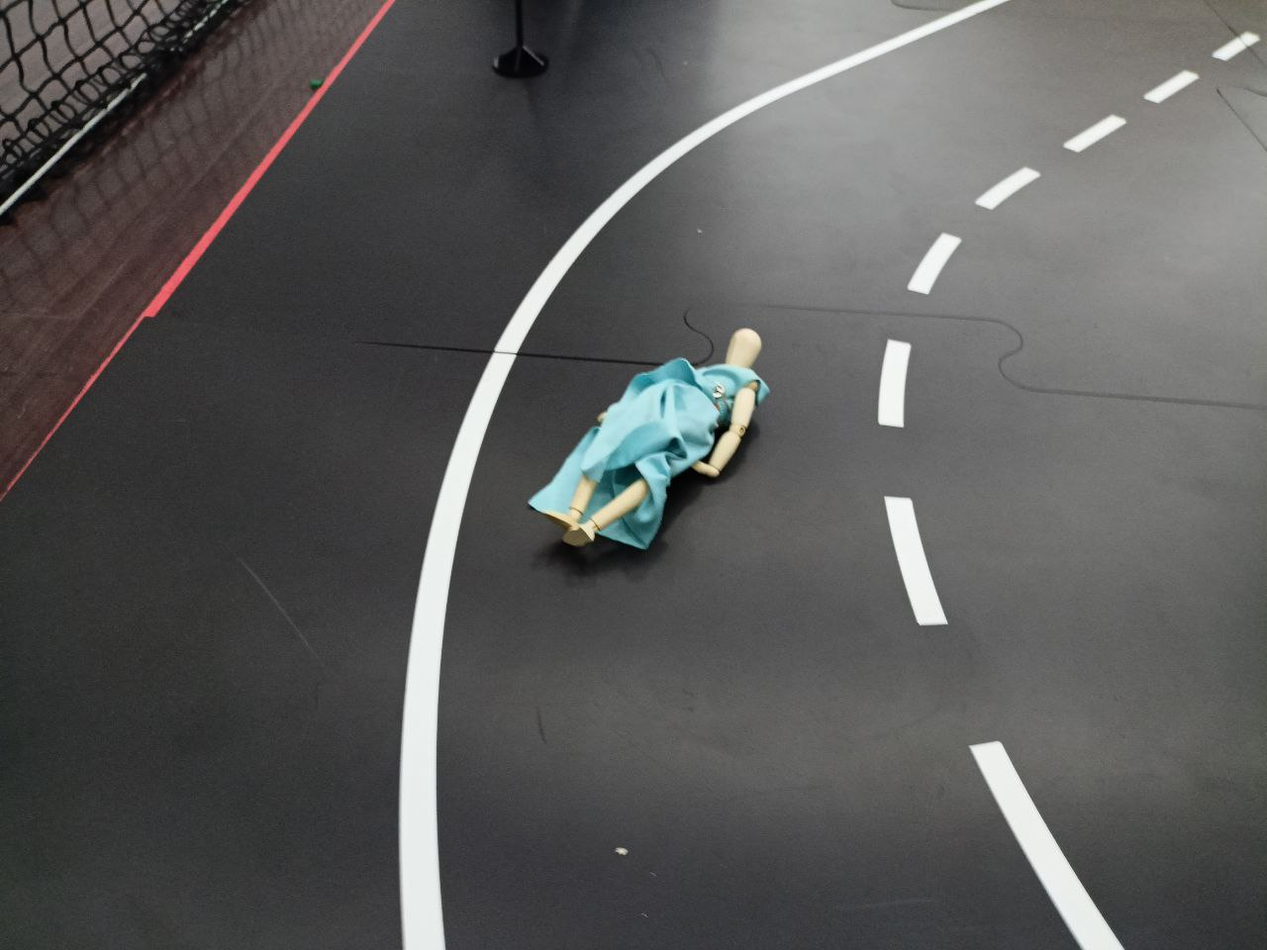Road works: (510, 305, 793, 566)
